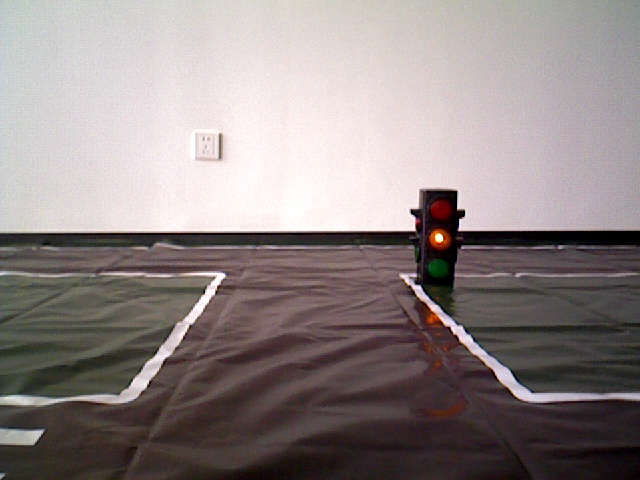yellow: (416, 183, 460, 289)
